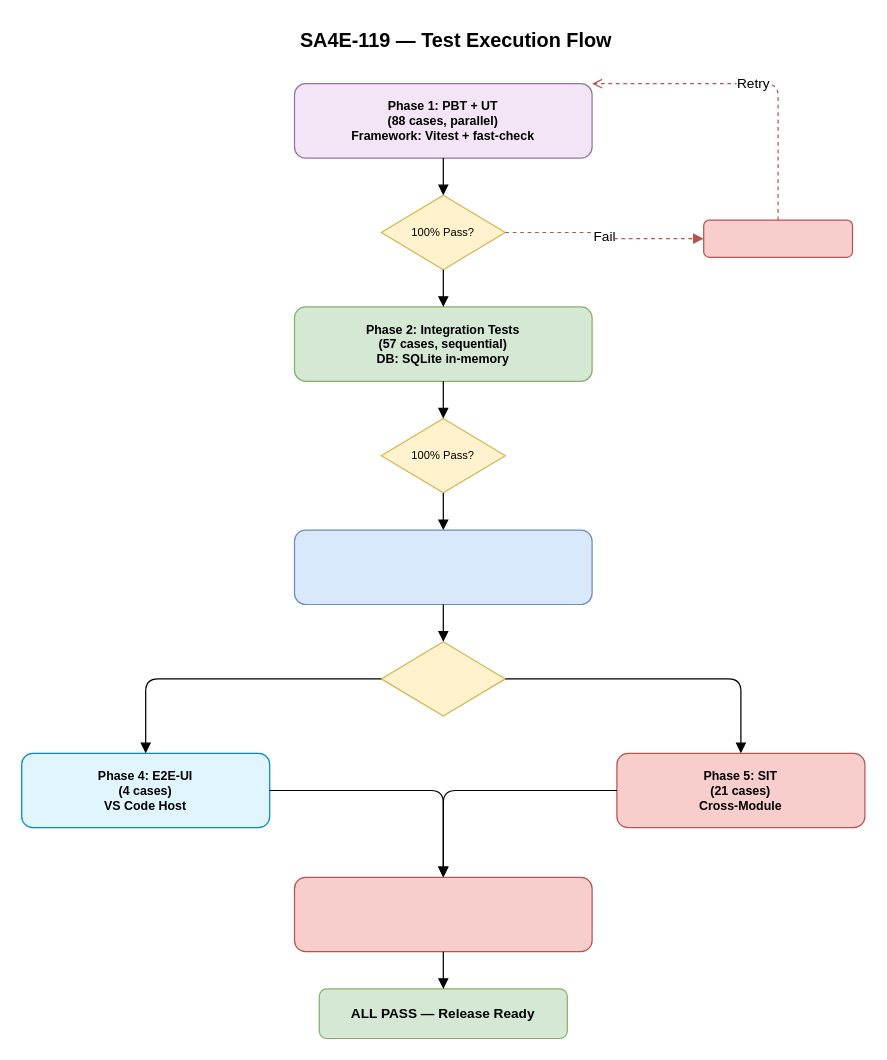
Image size: 887x1060. Some labels were removed from this diagram. Here are the shapes that lost their labels. From the top down, the box of each, then its label:
(702, 219, 852, 257): Fix and Retest
(293, 529, 592, 604): Phase 3: E2E-API Tests (26 cases) Real MCP Server
(380, 640, 505, 716): 95% Pass?
(293, 876, 592, 952): Phase 6: Security Tests (14 cases) SEC-01 to SEC-08
